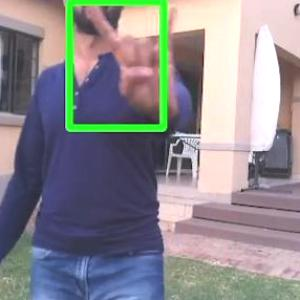takeoff-hand: (76, 0, 188, 115)
